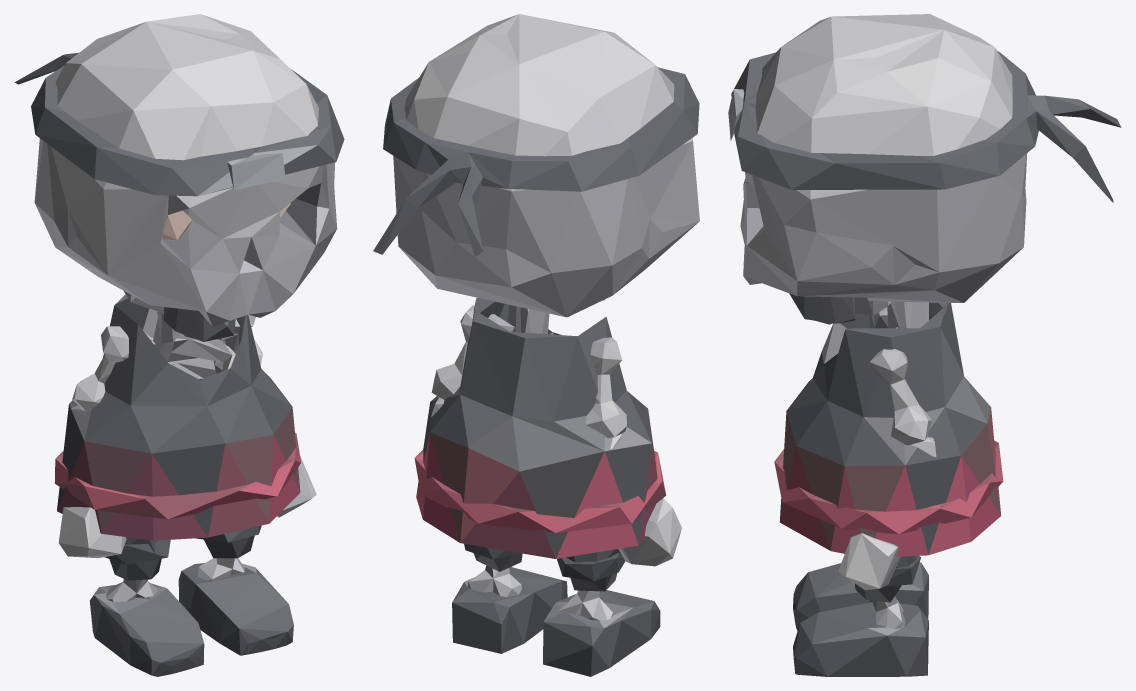
The model's file is sk_Ninja.obj.
3 views of the same model, side by side, from view 1: azimuth 30°, elevation 25°; view 2: azimuth 150°, elevation 25°; view 3: azimuth 270°, elevation 25° (orthographic). The views are drawn at different scales.
Visible parts, largest first — view 1: sk_Ninja; view 2: sk_Ninja; view 3: sk_Ninja.
Boxes of the visible parts, bbox=[...] form: sk_Ninja: bbox=[14, 14, 344, 676]; sk_Ninja: bbox=[373, 14, 699, 676]; sk_Ninja: bbox=[728, 14, 1121, 676].
Size of the model in its own units: 5.5 by 12.5 by 7.3.
